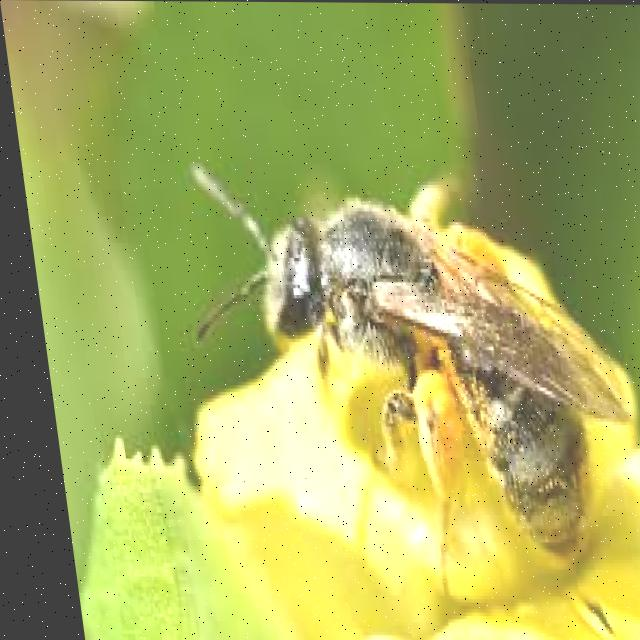Lasioglossum: (163, 139, 640, 585)
